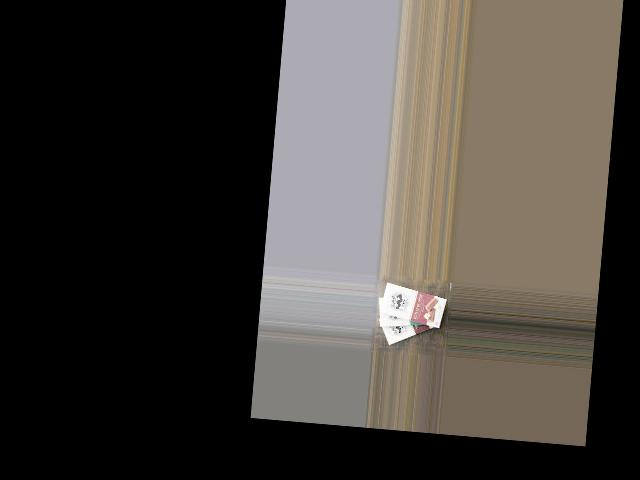chocolate: (375, 302, 445, 350)
